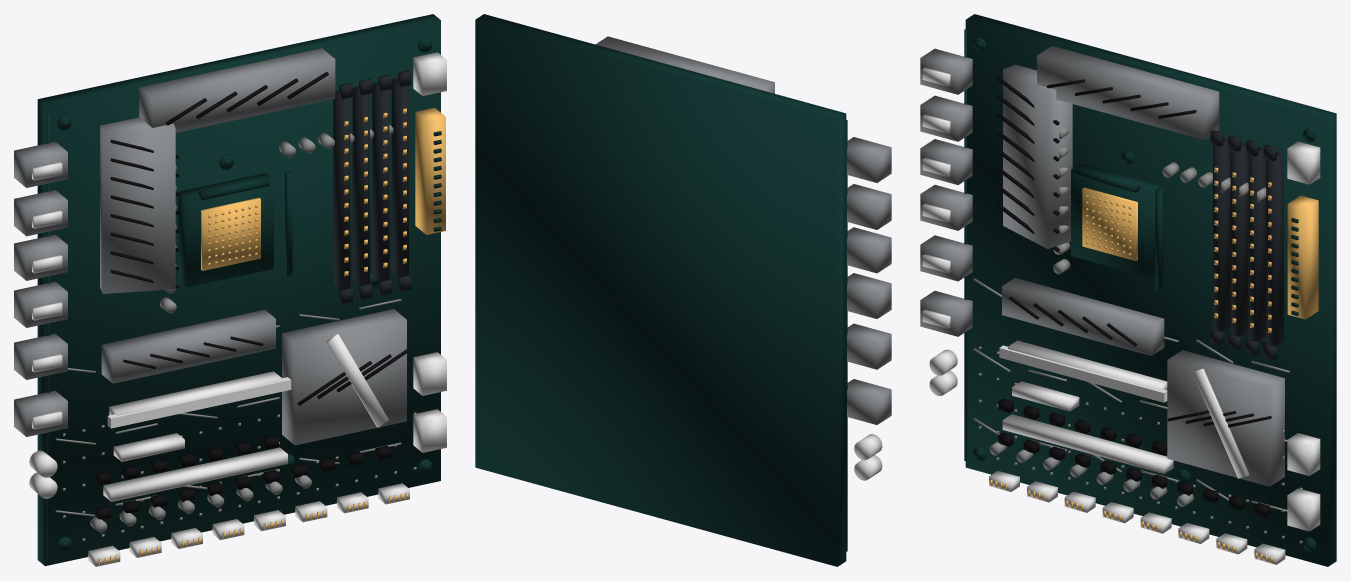
The model's file is motherboard_static.glb.
3 views of the same model, side by side, from view 1: azimuth 30°, elevation 25°; view 2: azimuth 150°, elevation 25°; view 3: azimuth 330°, elevation 25° (orthographic). The views are drawn at different scales.
Parts seen in each view (by area): view 1: motherboard_PCB_ATX_negra, disipador_chipset_grande_inferior_derecho, disipador_VRM_izquierdo_cepillado, disipador_superior_IO_cepillado, disipador_M2_largo_cepillado, socket_CPU_marco_metalico, conector_ATX_24_pines, socket_CPU_centro_pines, ranura_PCIe_x16_negra_inferior, ranura_RAM_DDR_3, ranura_RAM_DDR_1, ranura_RAM_DDR_4 (+17 smaller); view 2: motherboard_PCB_ATX_negra, disipador_superior_IO_cepillado, puerto_IO_metal_3, puerto_IO_metal_4, puerto_IO_metal_5, puerto_IO_metal_6, puerto_IO_metal_2, puerto_IO_metal_1, linea_dorada_borde_izquierdo_PCB, jack_audio_1; view 3: motherboard_PCB_ATX_negra, disipador_chipset_grande_inferior_derecho, disipador_VRM_izquierdo_cepillado, disipador_superior_IO_cepillado, disipador_M2_largo_cepillado, socket_CPU_marco_metalico, conector_ATX_24_pines, ranura_RAM_DDR_2, ranura_RAM_DDR_3, ranura_RAM_DDR_4, ranura_PCIe_x16_negra_inferior, socket_CPU_centro_pines (+18 smaller).
Part boxes in pixels (x1,y1,x2,y2): motherboard_PCB_ATX_negra: (37,14,440,566); disipador_chipset_grande_inferior_derecho: (282,309,406,445); disipador_VRM_izquierdo_cepillado: (100,117,175,293); disipador_superior_IO_cepillado: (139,48,335,132); disipador_M2_largo_cepillado: (101,309,275,383); socket_CPU_marco_metalico: (178,173,273,287); conector_ATX_24_pines: (415,107,445,234); socket_CPU_centro_pines: (201,197,260,270); ranura_PCIe_x16_negra_inferior: (103,447,287,501); ranura_RAM_DDR_3: (372,82,389,281); ranura_RAM_DDR_1: (333,91,350,289); ranura_RAM_DDR_4: (391,78,408,277); motherboard_PCB_ATX_negra: (475,14,846,566); disipador_superior_IO_cepillado: (595,36,774,93); puerto_IO_metal_3: (847,227,891,273); puerto_IO_metal_4: (847,273,891,318); puerto_IO_metal_5: (847,323,891,369); puerto_IO_metal_6: (847,379,891,424); puerto_IO_metal_2: (847,184,891,229); puerto_IO_metal_1: (847,137,891,182); linea_dorada_borde_izquierdo_PCB: (846,120,847,551); jack_audio_1: (854,434,882,460); motherboard_PCB_ATX_negra: (965,14,1336,566); disipador_chipset_grande_inferior_derecho: (1167,350,1284,486); disipador_VRM_izquierdo_cepillado: (1003,65,1072,249); disipador_superior_IO_cepillado: (1037,46,1219,139); disipador_M2_largo_cepillado: (1002,278,1164,355); socket_CPU_marco_metalico: (1071,163,1160,277); conector_ATX_24_pines: (1287,195,1318,319); ranura_RAM_DDR_2: (1230,143,1248,336); ranura_RAM_DDR_3: (1248,148,1266,341); ranura_RAM_DDR_4: (1266,152,1283,346); ranura_PCIe_x16_negra_inferior: (1002,414,1173,473); socket_CPU_centro_pines: (1082,187,1137,260).
Bounding box in the file's own units: 3.53 × 3.72 × 0.5244.
